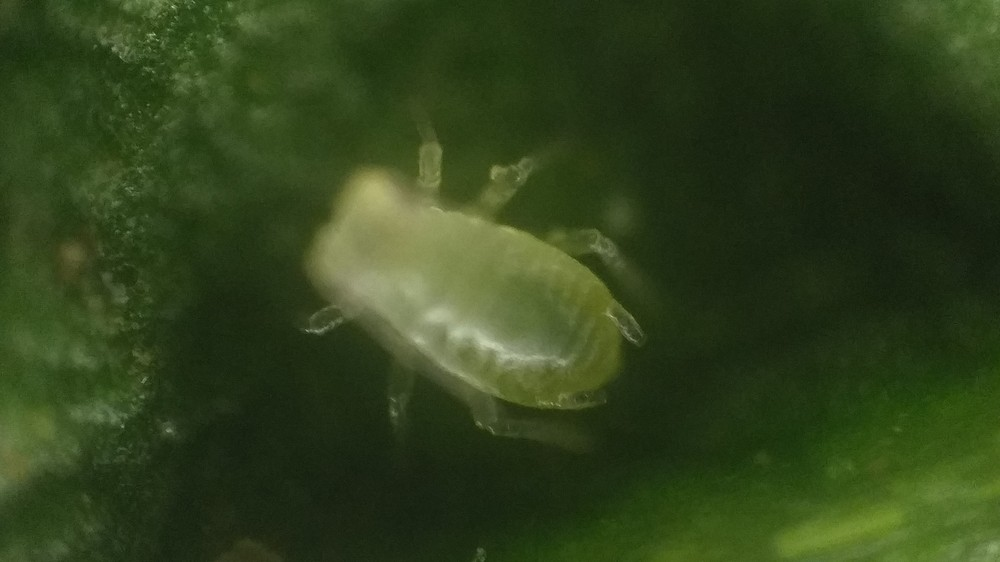Pulgon: (280, 107, 705, 480)
